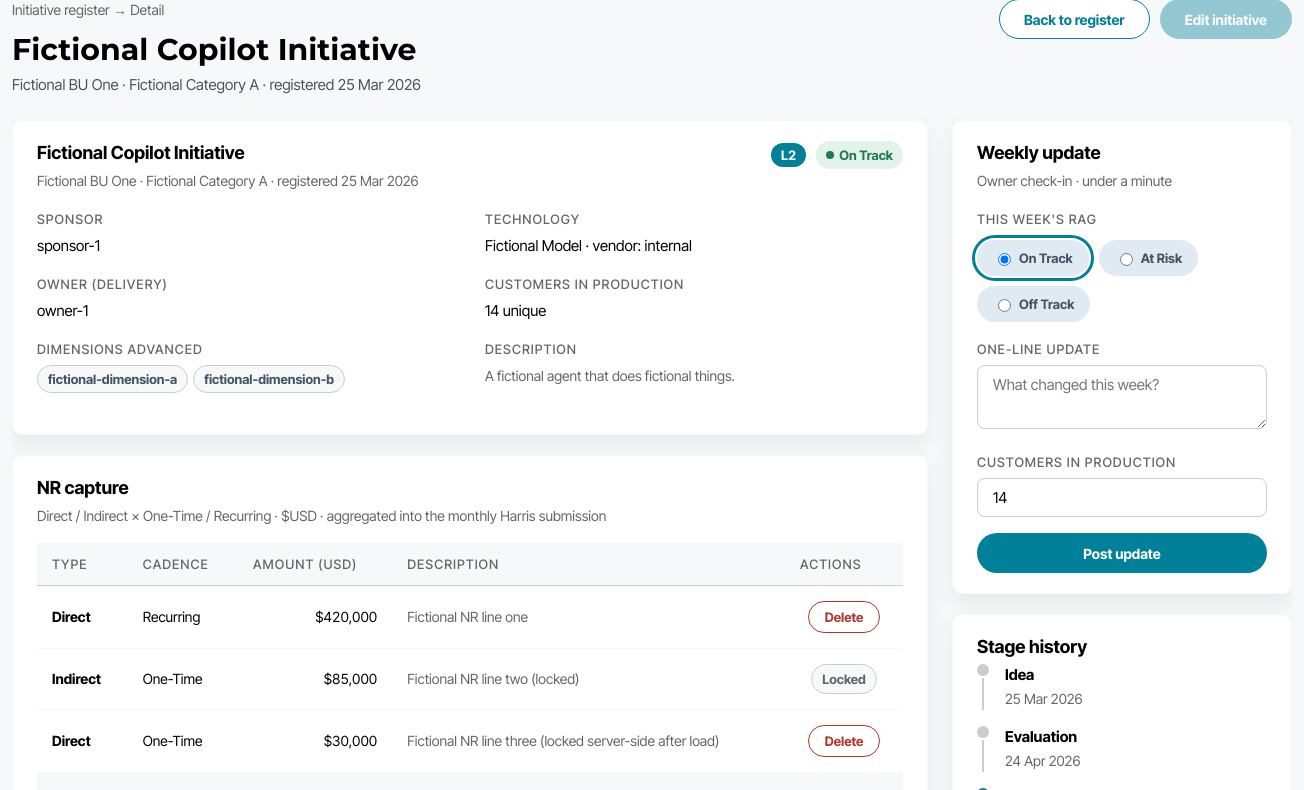
it: RegisterDetailScreen (HAP-14; register-detail mockup) › posts a weekly update on the happy path and refreshes the update trail newest-first
Check: the heading "Fictional Copilot Initiative" below "Initiative register → Detail" is shown, box [12,31,421,69]
Click the radio button labelled "Off Track".
click(1004, 306)  # box [998,299,1011,312]
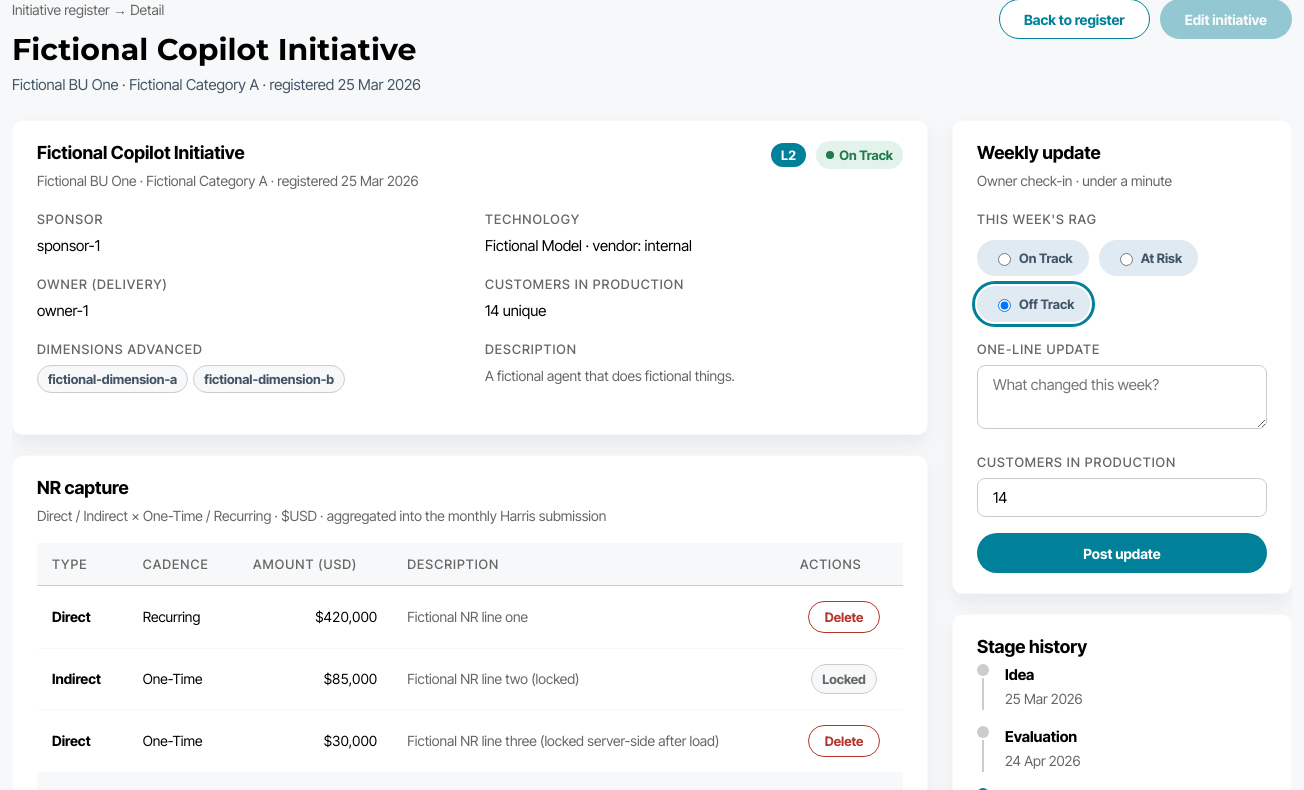
Type "Fresh status note" into the text box labelled "One-line update".
click(1122, 397); type("Fresh status note")  # box [977,365,1267,429]
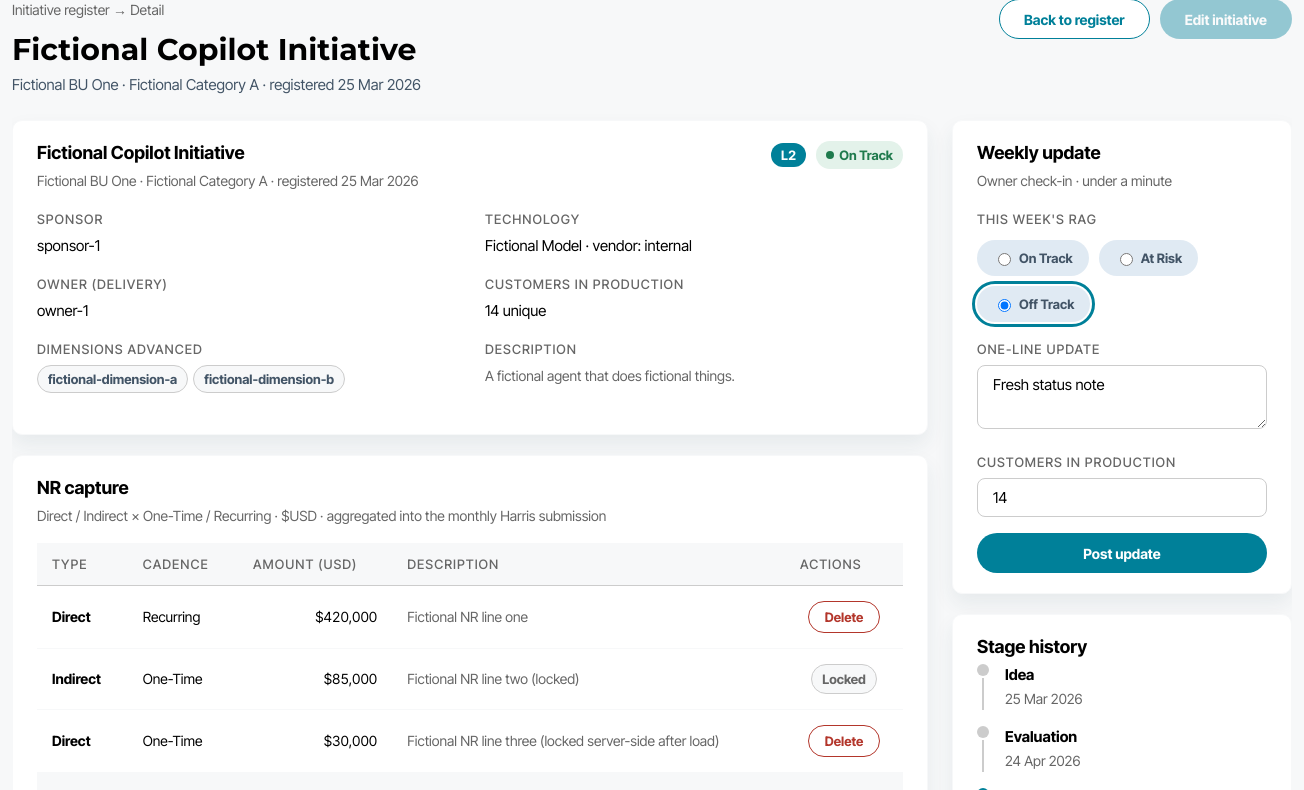
Click the button "Post update".
click(1122, 553)  # box [977,533,1267,573]
(page scrolled)
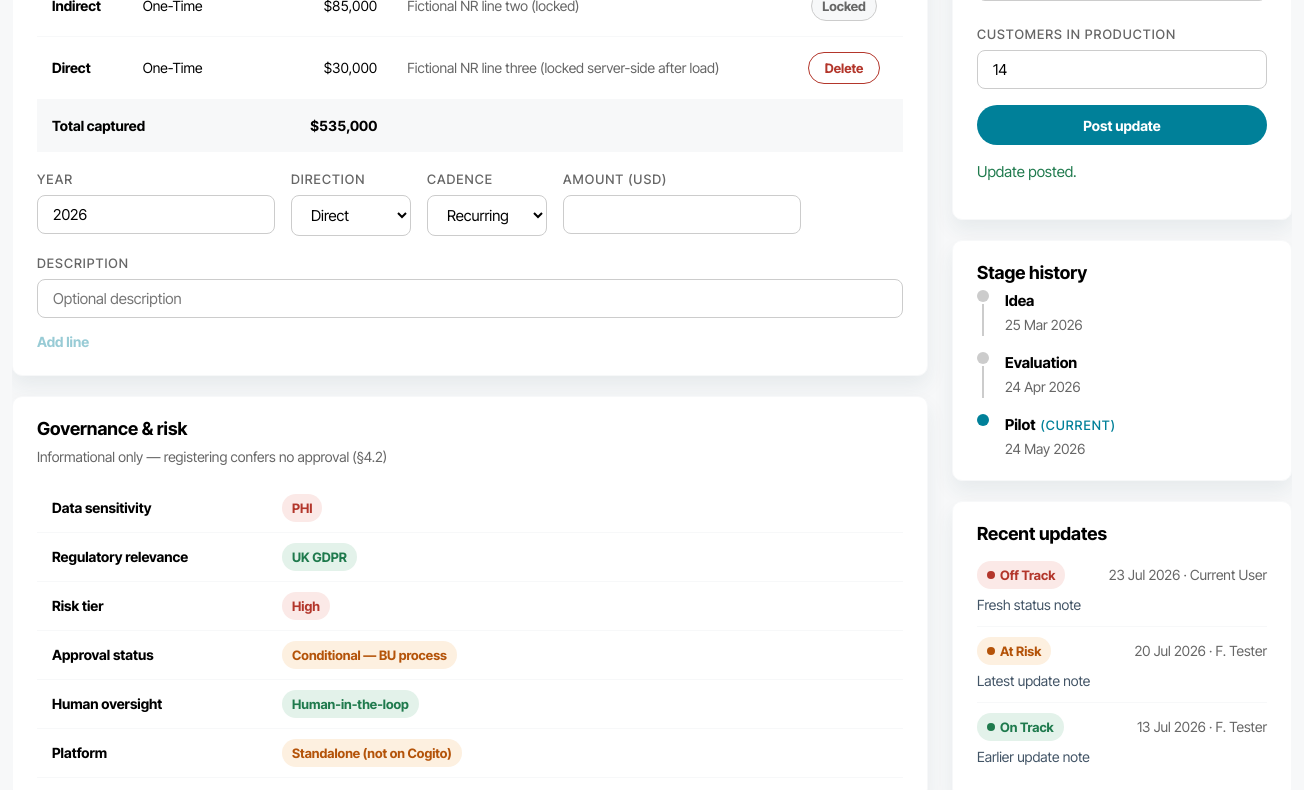
Check: the list item "At Risk 20 Jul 2026 · F. Tester Latest update note" is shown, box [977,626,1267,702]
Check: the text "Update posted." is shown, box [977,162,1077,181]
Check: the list item "Off Track 23 Jul 2026 · Current User Fresh status note" is shown, box [977,551,1267,626]
